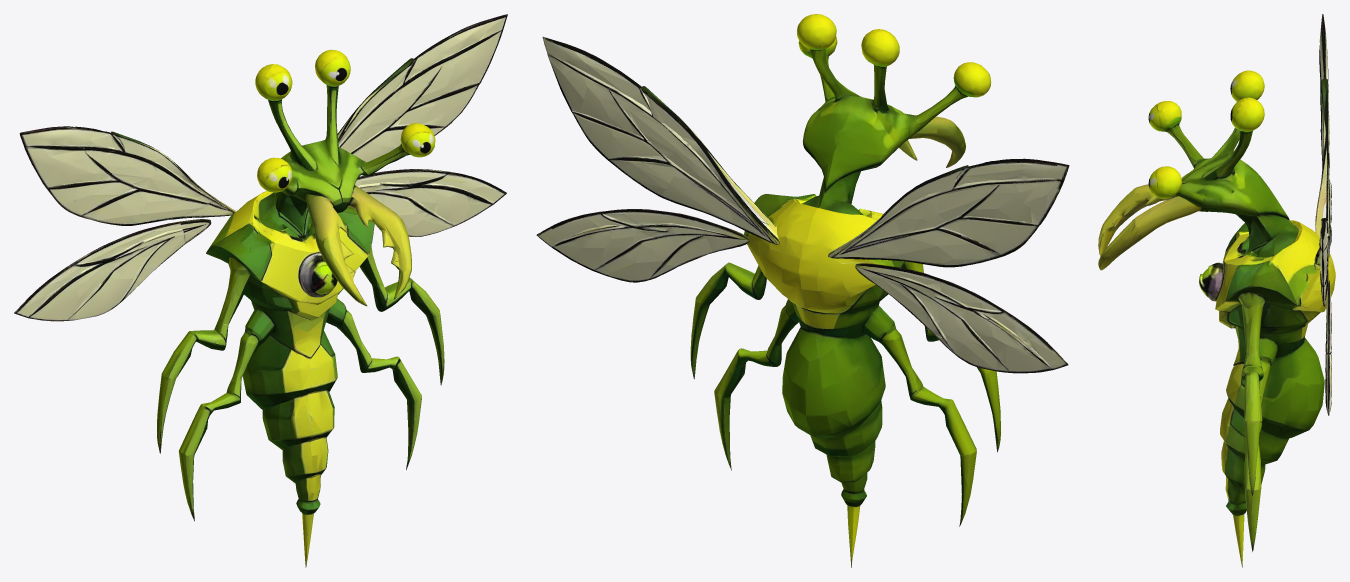
The model's file is stinkfly.glb.
3 views of the same model, side by side, from view 1: azimuth 30°, elevation 25°; view 2: azimuth 150°, elevation 25°; view 3: azimuth 270°, elevation 25° (orthographic). The views are drawn at different scales.
Bounding box in the file's own units: 1.9 × 1.87 × 0.8333.
Materials: 1 (1 with a texture image).
